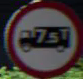Heavy Vehicles: (8, 4, 75, 67)
